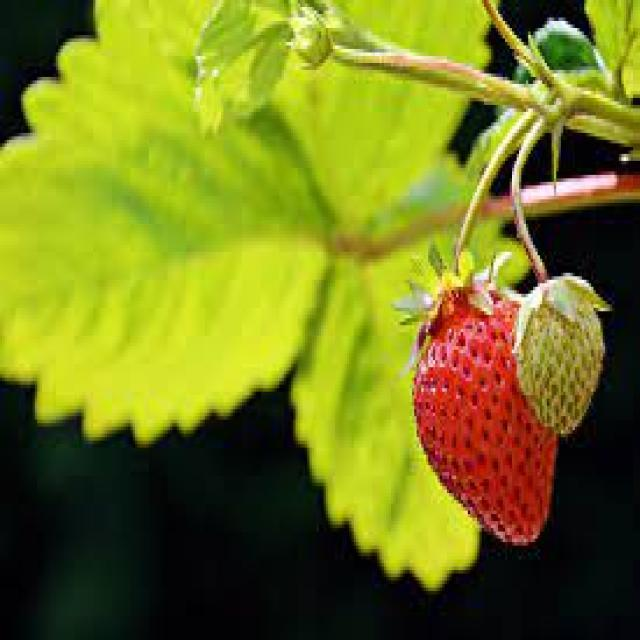strawberry: (412, 275, 556, 542), (517, 280, 604, 432)
